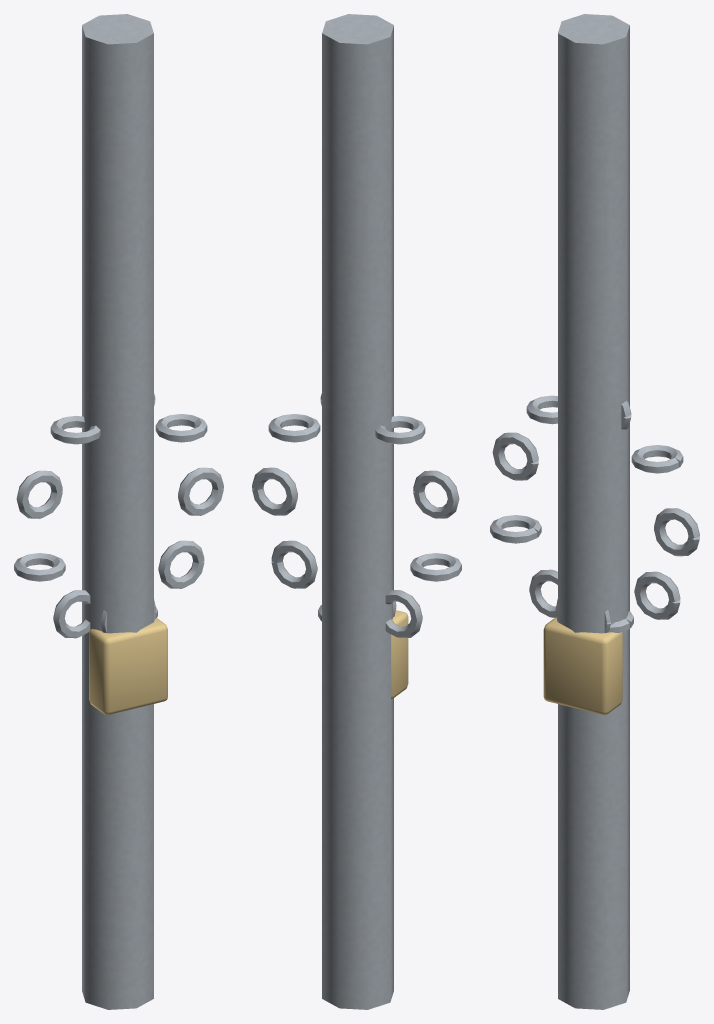
Rendered from cage_hardware.glb.
3 renders of one model, left to right at view 1: azimuth 30°, elevation 25°; view 2: azimuth 150°, elevation 25°; view 3: azimuth 330°, elevation 25°, orthographic.
Parts seen in each view (by area): view 1: Cable, PadlockChain, LockBody; view 2: Cable, PadlockChain, LockBody; view 3: Cable, PadlockChain, LockBody.
Boxes of the visible parts, <box> form: Cable: <box>82,14,153,1009</box>; PadlockChain: <box>14,393,223,638</box>; LockBody: <box>89,618,167,714</box>; Cable: <box>322,14,393,1009</box>; PadlockChain: <box>252,393,461,638</box>; LockBody: <box>391,610,408,698</box>; Cable: <box>558,14,629,1009</box>; PadlockChain: <box>490,395,699,632</box>; LockBody: <box>543,617,622,714</box>.
Size of the model in its own units: 0.2244 by 1 by 0.0725.
2 materials, 1 textured.
